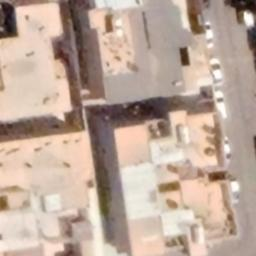sedan: (206, 58, 228, 88), (198, 20, 218, 50), (216, 136, 236, 164)
van: (210, 92, 234, 120)
